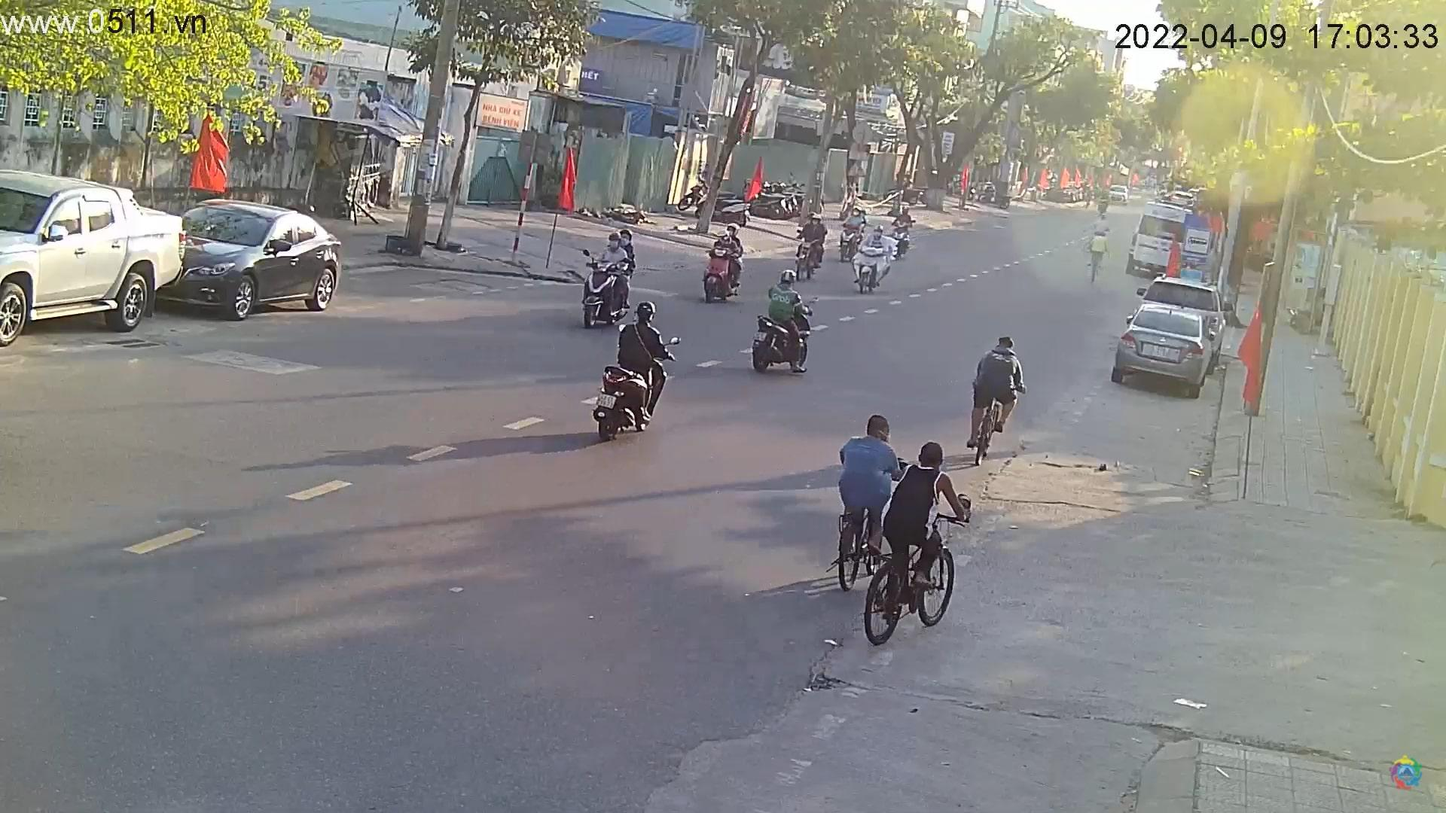car: (2, 166, 189, 354), (167, 200, 351, 321)
motorbike: (571, 242, 641, 333), (705, 232, 747, 301)
